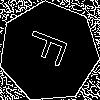F: (24, 26, 78, 72)
